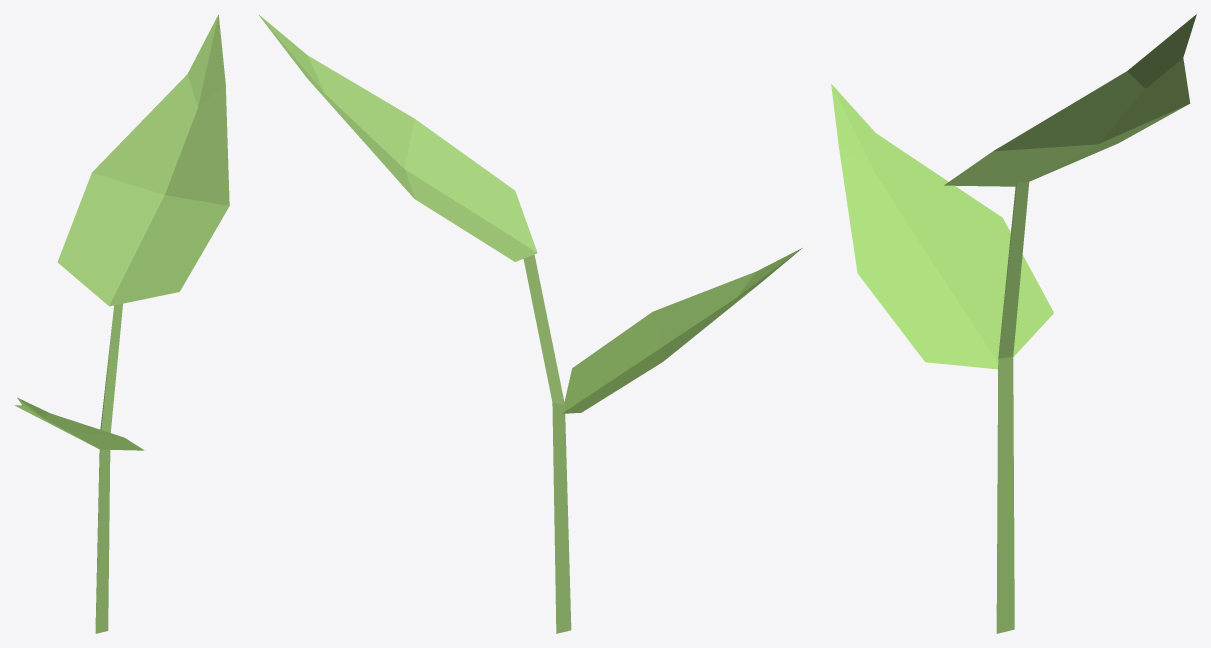
The model's file is Plant_f_TwoS_02.fbx.
The picture shows the model from 3 angles, left to right: view 1: azimuth 30°, elevation 25°; view 2: azimuth 150°, elevation 25°; view 3: azimuth 270°, elevation 25°; orthographic projection. The views are drawn at different scales.
Parts seen in each view (by area): view 1: Plant_f_TwoS_02; view 2: Plant_f_TwoS_02; view 3: Plant_f_TwoS_02.
Part boxes in pixels (x1,y1,x2,y2): Plant_f_TwoS_02: (14, 14, 229, 633); Plant_f_TwoS_02: (259, 15, 802, 633); Plant_f_TwoS_02: (831, 14, 1196, 633).
Bounding box in the file's own units: 0.3164 × 0.4784 × 0.2126.
